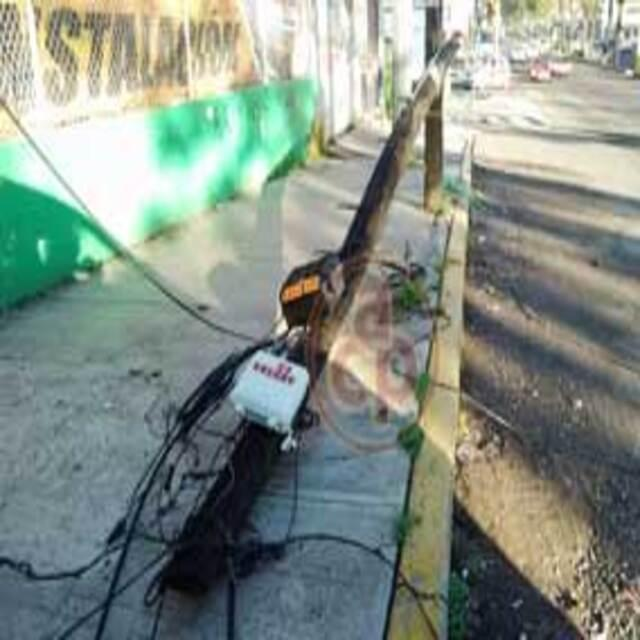Inclined Pole: (149, 18, 467, 612)
